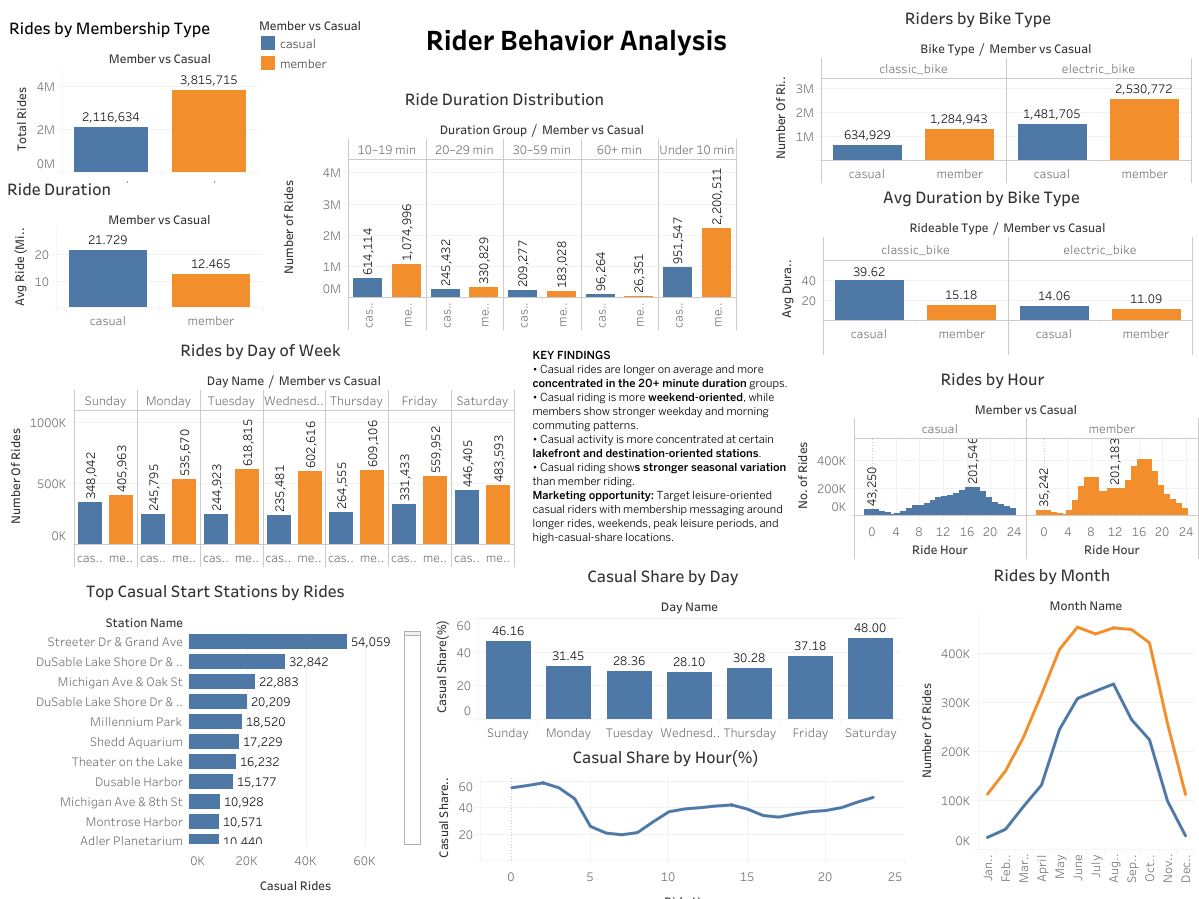

The dashboard page shown, as its layout file describes it:
{"tool":"tableau","page":{"name":"Rider Behavior Dashboard","canvas":[1200,900],"ordinal":0},"visuals":[{"type":"worksheet","title":"Riders_By_BikeType","mark":"Bar","rows":["NumberOfRides"],"cols":["rideable_type","member_casual"],"box":[764,0,428,183]},{"type":"text","box":[379,1,395,76]},{"type":"worksheet","title":"Rides by Membership Type","mark":"Automatic","rows":["Total_Rides"],"cols":["member_casual"],"box":[5,10,253,172]},{"type":"legend","title":"Rides by Membership Type","param":"[federated.02lncp90uswyxn192ecmt160bkdc].[none:member_casual:nk]","box":[258,14,113,96]},{"type":"worksheet","title":"Ride Duration Distribution by Rider Type","mark":"Automatic","rows":["Number_of_Rides"],"cols":["Duration_Group","member_casual"],"box":[272,81,465,249]},{"type":"worksheet","title":"Ride Duration","mark":"Automatic","rows":["AvgRideMinutes"],"cols":["member_casual"],"box":[3,171,260,158]},{"type":"worksheet","title":"Average Duration by Bike Type","mark":"Bar","rows":["Avg_Duration_Minutes"],"cols":["rideable_type","member_casual"],"box":[770,179,423,176]},{"type":"worksheet","title":"Rides by Day of Week","mark":"Automatic","rows":["NumberOfRides"],"cols":["DayName","member_casual"],"box":[6,332,509,235]},{"type":"text","box":[530,343,265,206]},{"type":"worksheet","title":"Rides by Hour","mark":"Bar","rows":["NumberOfRides"],"cols":["member_casual","RideHour"],"box":[786,361,413,198]},{"type":"worksheet","title":"Rides by Month","mark":"Line","rows":["NumberOfRides"],"cols":["MonthName"],"box":[910,557,284,327]},{"type":"worksheet","title":"Casual Share by Day","mark":"Automatic","rows":["Casual_Percent"],"cols":["Day_Name"],"box":[425,558,476,183]},{"type":"worksheet","title":"Top Casual Start Stations by Rides","mark":"Bar","rows":["Station_Name"],"cols":["Casual_Rides"],"box":[28,573,393,328]}]}

Visuals, with their boxes in screenshot pixels (x1, y1, x2, y2), scaled from the page's 1200x900 canvas onto the 1199x899 screenshot:
"Riders_By_BikeType" worksheet (Bar marks): 763, 0, 1191, 183
text: 379, 1, 773, 77
"Rides by Membership Type" worksheet: 5, 10, 258, 182
"Rides by Membership Type" legend: 258, 14, 371, 110
"Ride Duration Distribution by Rider Type" worksheet: 272, 81, 736, 330
"Ride Duration" worksheet: 3, 171, 263, 329
"Average Duration by Bike Type" worksheet (Bar marks): 769, 179, 1192, 355
"Rides by Day of Week" worksheet: 6, 332, 515, 566
text: 530, 343, 794, 548
"Rides by Hour" worksheet (Bar marks): 785, 361, 1198, 558
"Rides by Month" worksheet (Line marks): 909, 556, 1193, 883
"Casual Share by Day" worksheet: 425, 557, 900, 740
"Top Casual Start Stations by Rides" worksheet (Bar marks): 28, 572, 421, 898
